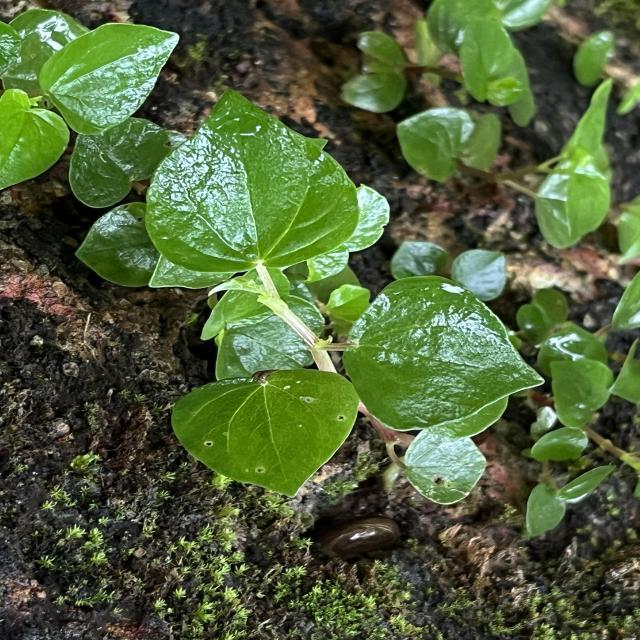Peperomia pellucida: (142, 85, 360, 275), (340, 273, 547, 433), (170, 366, 360, 499)
